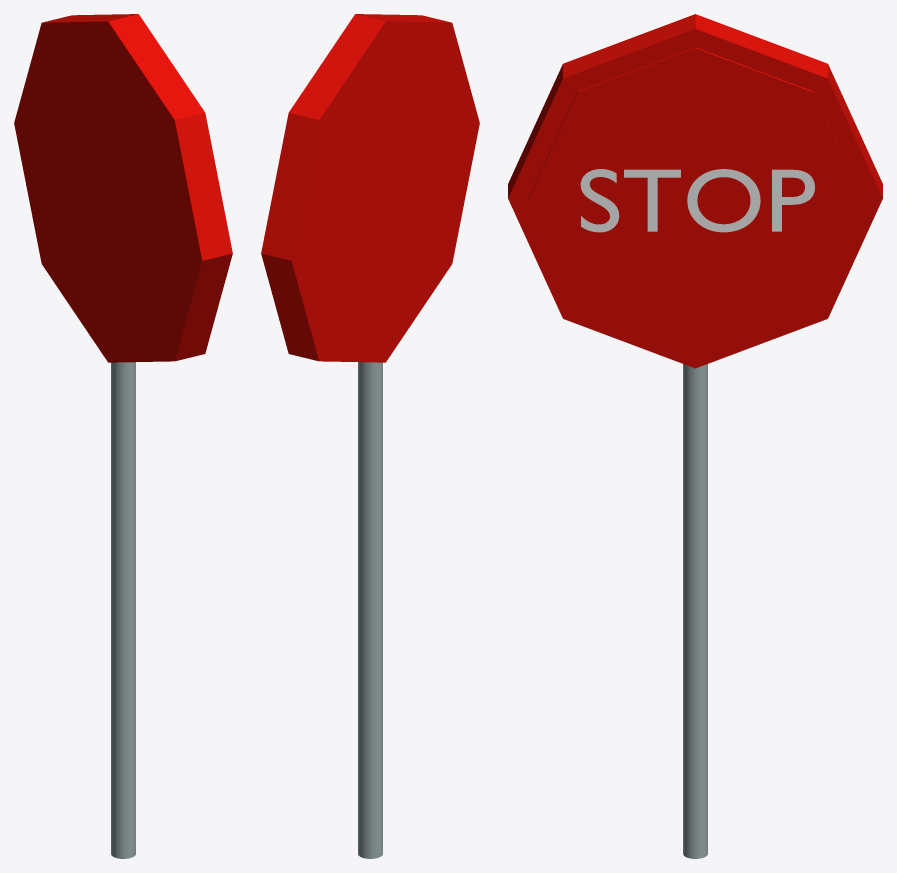
The model's file is stopSign.fbx.
The picture shows the model from 3 angles, left to right: view 1: azimuth 30°, elevation 25°; view 2: azimuth 150°, elevation 25°; view 3: azimuth 270°, elevation 25°; orthographic projection.
Visible parts, largest first — view 1: Cylinder.001, Cylinder; view 2: Cylinder.001, Cylinder; view 3: Cylinder.001, Cylinder, Text.
Boxes of the visible parts, left/top/right/bottom form: Cylinder.001: left=14, top=14, right=232, bottom=362; Cylinder: left=111, top=362, right=135, bottom=858; Cylinder.001: left=261, top=14, right=479, bottom=362; Cylinder: left=358, top=362, right=382, bottom=858; Cylinder.001: left=508, top=14, right=882, bottom=368; Cylinder: left=683, top=364, right=707, bottom=858; Text: left=580, top=169, right=814, bottom=232.
Bounding box in the file's own units: 309 × 7350 × 3000.
